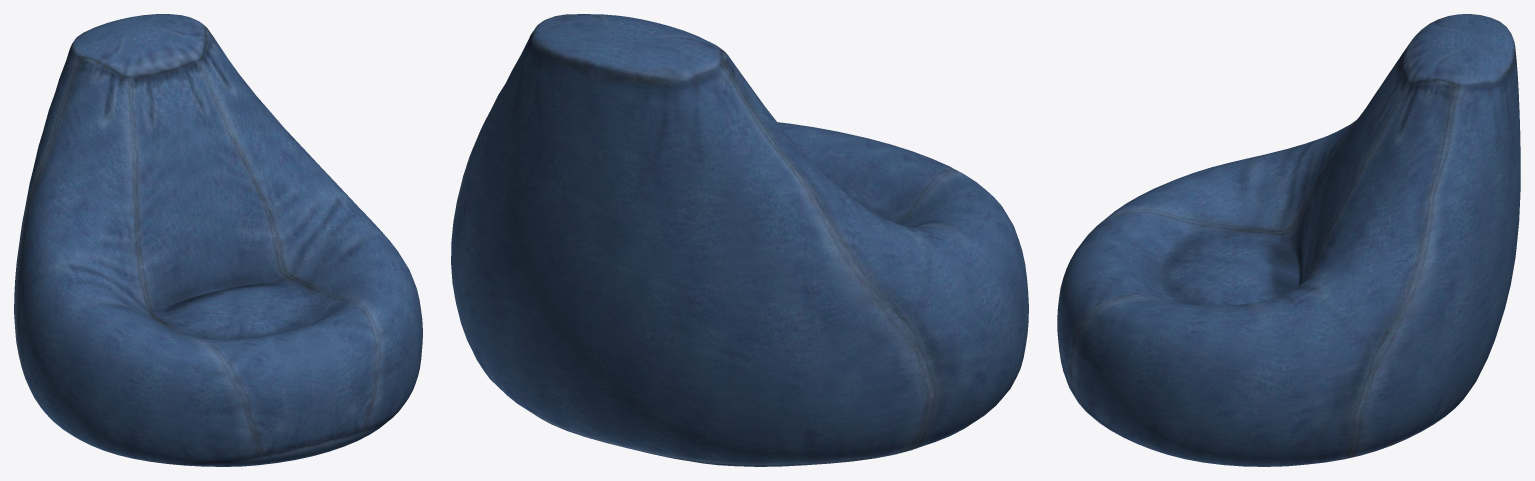
Rendered from Bean.obj.
The picture shows the model from 3 angles, left to right: view 1: azimuth 30°, elevation 25°; view 2: azimuth 150°, elevation 25°; view 3: azimuth 270°, elevation 25°; orthographic projection. The views are drawn at different scales.
Visible parts, largest first — view 1: 10216_Bean_Bag_Chair_v2_max2008_it2; view 2: 10216_Bean_Bag_Chair_v2_max2008_it2; view 3: 10216_Bean_Bag_Chair_v2_max2008_it2.
Part boxes in pixels (bbox=[...]): 10216_Bean_Bag_Chair_v2_max2008_it2: bbox=[14, 14, 422, 466]; 10216_Bean_Bag_Chair_v2_max2008_it2: bbox=[451, 14, 1028, 466]; 10216_Bean_Bag_Chair_v2_max2008_it2: bbox=[1057, 14, 1520, 466].
Bounding box in the file's own units: 84.51 × 68.94 × 83.83.
Materials: 1 (1 with a texture image).
